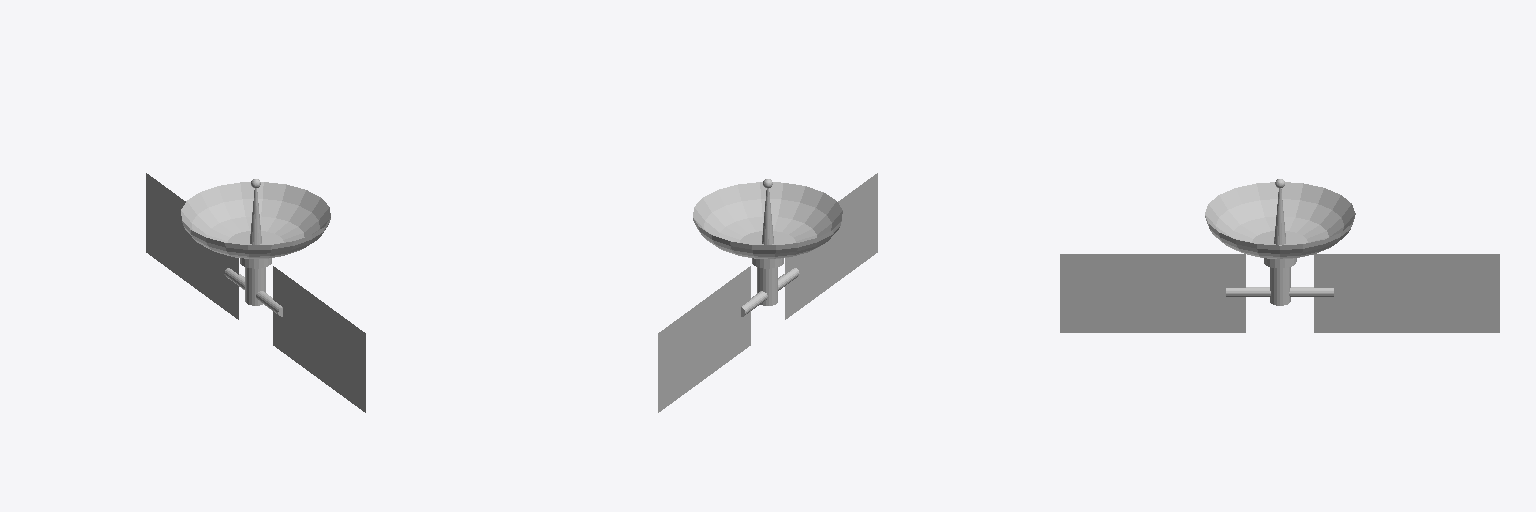
Rendered from satellite.obj.
3 views of the same model, side by side, from view 1: azimuth 30°, elevation 25°; view 2: azimuth 150°, elevation 25°; view 3: azimuth 270°, elevation 25° (orthographic).
Parts seen in each view (by area): view 1: pSphere5, pPlane2, pPlane1, pCylinder3; view 2: pSphere5, pPlane1, pPlane2, pCylinder3; view 3: pPlane4, pPlane3, pSphere5, pCylinder3.
Boxes of the visible parts, <box> form: pSphere5: <box>181,179,330,305</box>; pPlane2: <box>273,266,365,412</box>; pPlane1: <box>146,173,238,319</box>; pCylinder3: <box>224,268,282,316</box>; pSphere5: <box>693,179,842,305</box>; pPlane1: <box>658,266,750,412</box>; pPlane2: <box>785,173,877,319</box>; pCylinder3: <box>741,268,799,316</box>; pPlane4: <box>1314,254,1499,332</box>; pPlane3: <box>1060,254,1245,332</box>; pSphere5: <box>1205,179,1355,305</box>; pCylinder3: <box>1226,287,1333,296</box>.
Bounding box in the file's own units: 2.79 × 3.14 × 8.12.